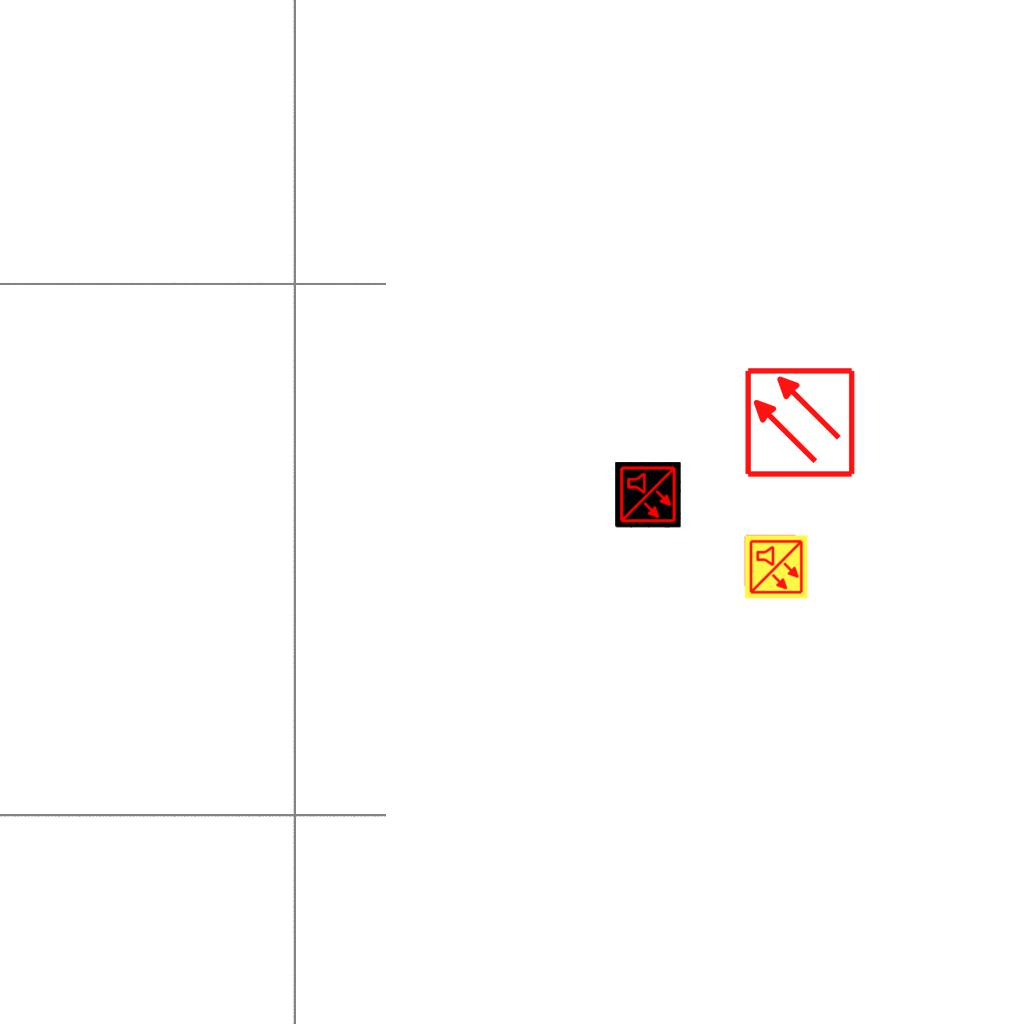OKW_Multisensormelder_(Kombination_optischer_Rauch-Kahlenmonoxid_Waerme-Melder): (743, 534, 809, 600), (615, 462, 681, 528)
RMO_Rauchmelder_optischer: (743, 366, 856, 479)
